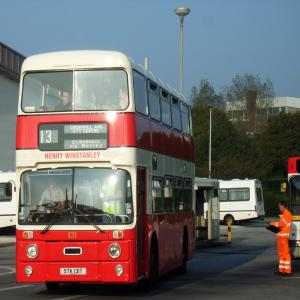Vehicle-registration-plate: (61, 269, 88, 277)
